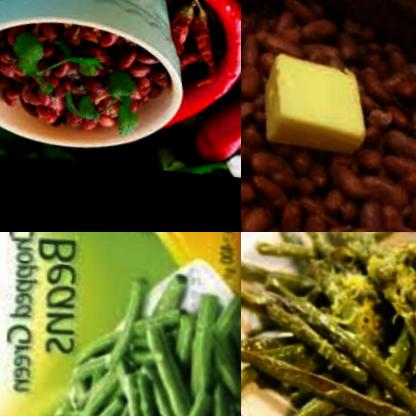fasol: (241, 232, 416, 416), (31, 264, 241, 416), (0, 9, 168, 141), (276, 143, 416, 232), (348, 0, 416, 158), (241, 0, 279, 232), (258, 0, 365, 60)
garlic: (221, 128, 241, 173)
hot pepper: (163, 0, 241, 123), (191, 51, 241, 160), (189, 0, 221, 83), (170, 0, 191, 51)
